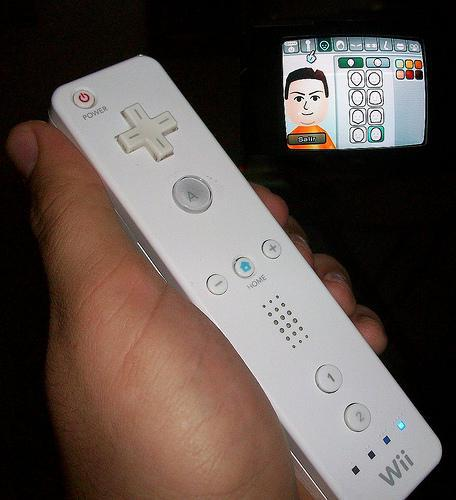hand: (1, 108, 402, 493)
tv: (256, 24, 435, 176)
